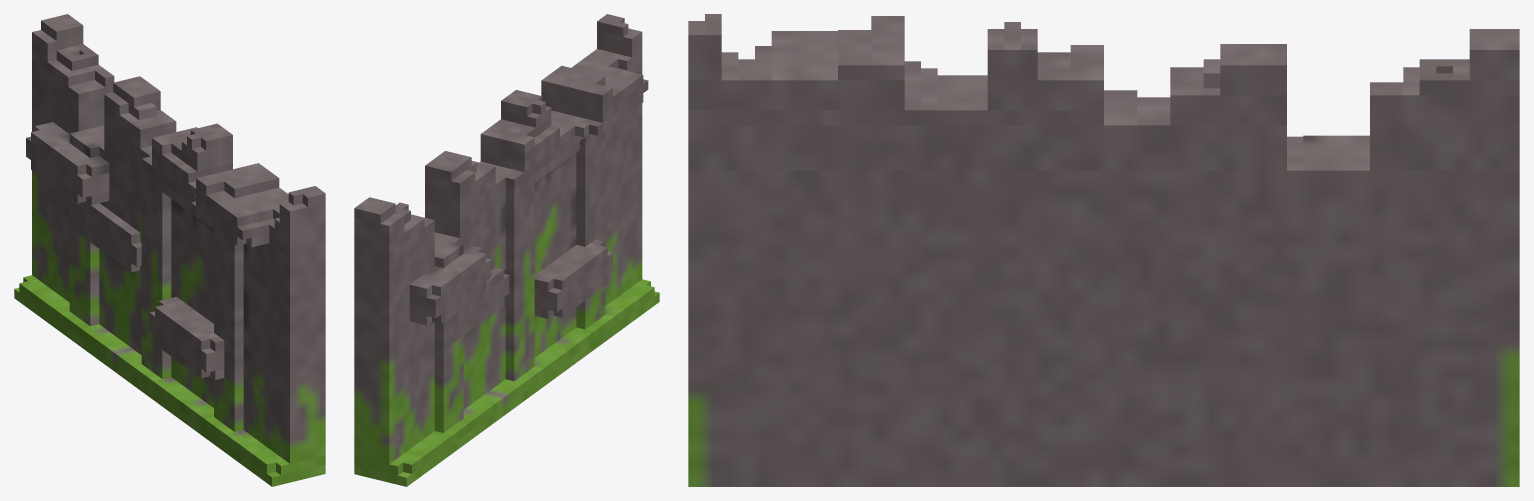
File: Ruin_Wall_1_damaged_state_01.fbx
The picture shows the model from 3 angles, left to right: view 1: azimuth 30°, elevation 25°; view 2: azimuth 150°, elevation 25°; view 3: azimuth 270°, elevation 25°; orthographic projection. The views are drawn at different scales.
Visible parts, largest first — view 1: Ruin_Wall_1_damaged_state_01; view 2: Ruin_Wall_1_damaged_state_01; view 3: Ruin_Wall_1_damaged_state_01.
Boxes of the visible parts, x1,y1,x2,y2 form: Ruin_Wall_1_damaged_state_01: [14, 14, 325, 486]; Ruin_Wall_1_damaged_state_01: [354, 14, 659, 486]; Ruin_Wall_1_damaged_state_01: [688, 14, 1519, 486].
Bounding box in the file's own units: 7 × 30 × 50.
1 material, 1 textured.
